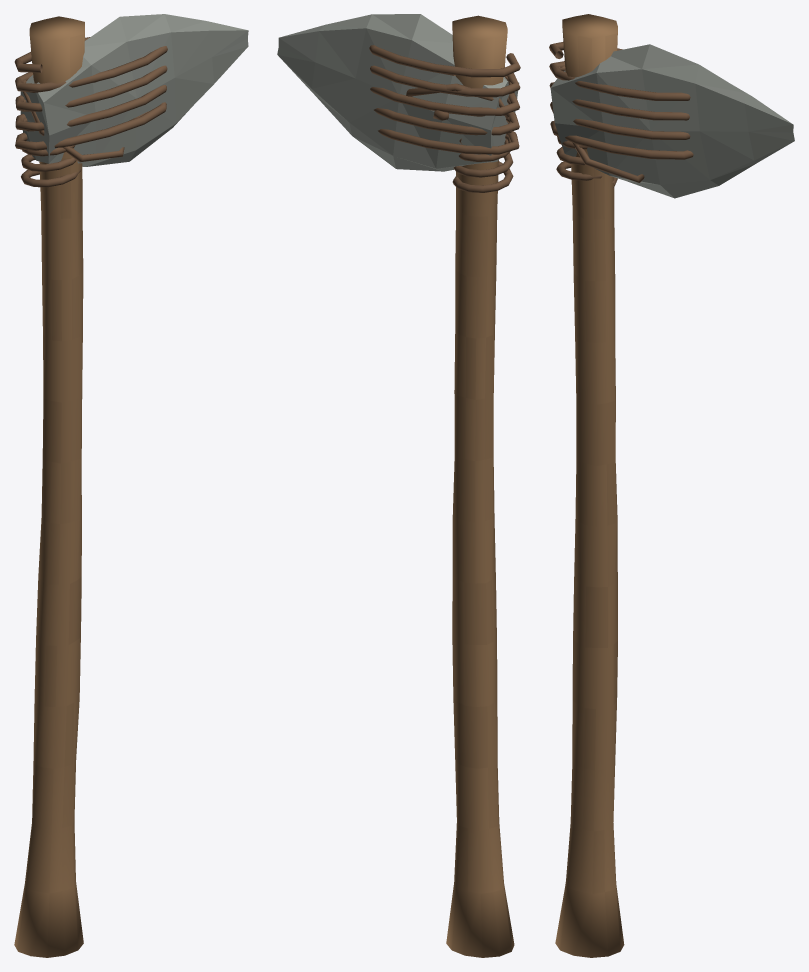
File: Primitiveaxe.glb
The picture shows the model from 3 angles, left to right: view 1: azimuth 30°, elevation 25°; view 2: azimuth 150°, elevation 25°; view 3: azimuth 330°, elevation 25°; orthographic projection.
Visible parts, largest first — view 1: Primitiveaxe_Handle, Primitiveaxe_Head, Primitiveaxe_Lashing; view 2: Primitiveaxe_Handle, Primitiveaxe_Head, Primitiveaxe_Lashing; view 3: Primitiveaxe_Handle, Primitiveaxe_Head, Primitiveaxe_Lashing.
Part boxes in pixels (box(x1,y1,x2,y2)): Primitiveaxe_Handle: box(14, 16, 84, 957); Primitiveaxe_Head: box(20, 14, 248, 166); Primitiveaxe_Lashing: box(14, 37, 167, 187); Primitiveaxe_Handle: box(446, 15, 514, 957); Primitiveaxe_Head: box(277, 14, 519, 171); Primitiveaxe_Lashing: box(369, 45, 520, 192); Primitiveaxe_Handle: box(555, 14, 624, 957); Primitiveaxe_Head: box(550, 44, 794, 198); Primitiveaxe_Lashing: box(549, 42, 693, 187).
Size of the model in its own units: 0.1905 by 0.7 by 0.0489.
